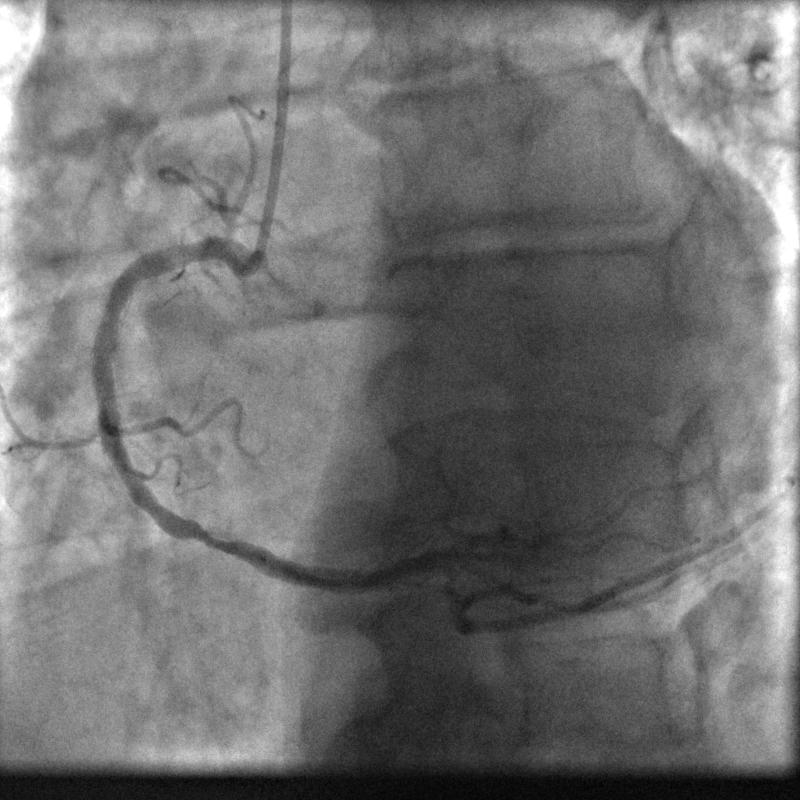Stenosis: (178, 515, 234, 556)
